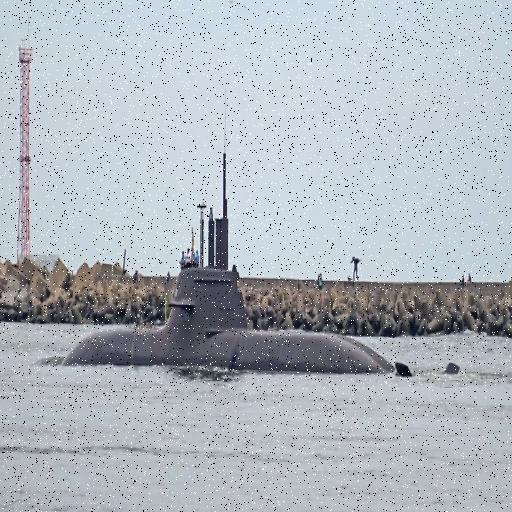submarine: (65, 97, 480, 379)
